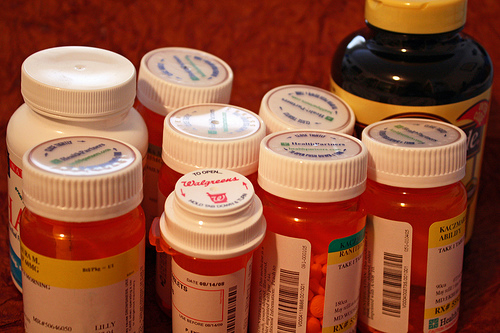pill bottle: (24, 137, 142, 333), (362, 118, 467, 331), (259, 129, 362, 333), (161, 168, 265, 333)
